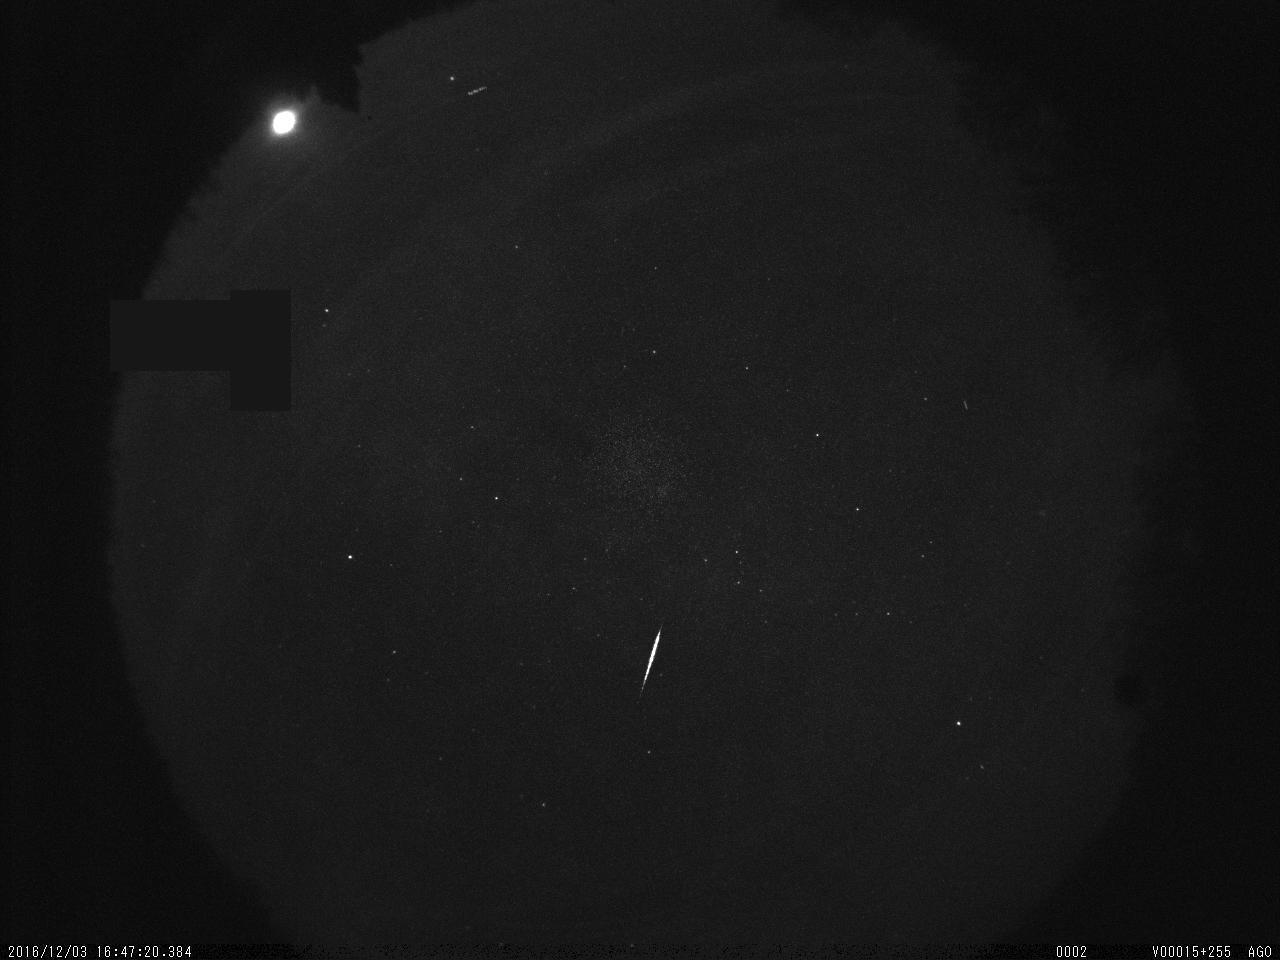meteor: (617, 606, 684, 717)
